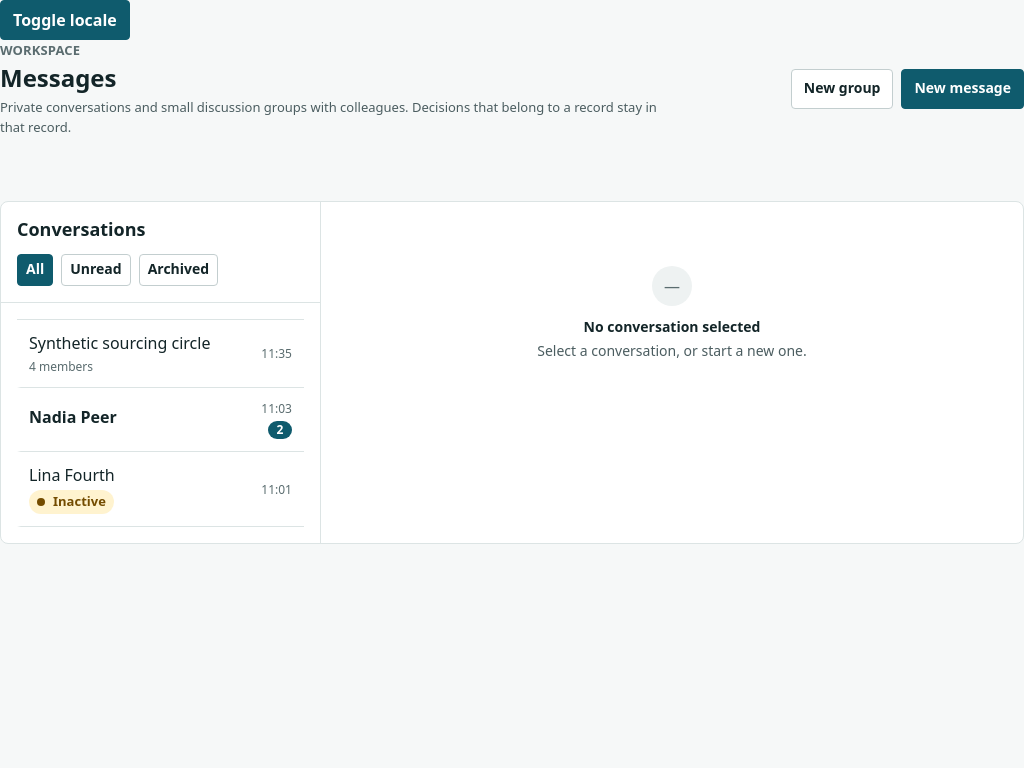
Test: Messages workspace › loads earlier messages with a before cursor and keeps the newest page
Click the button "Synthetic sourcing circle 4 members 11:35" at [160, 354], box x1=17 y1=320 x2=304 y2=388
(page scrolled)
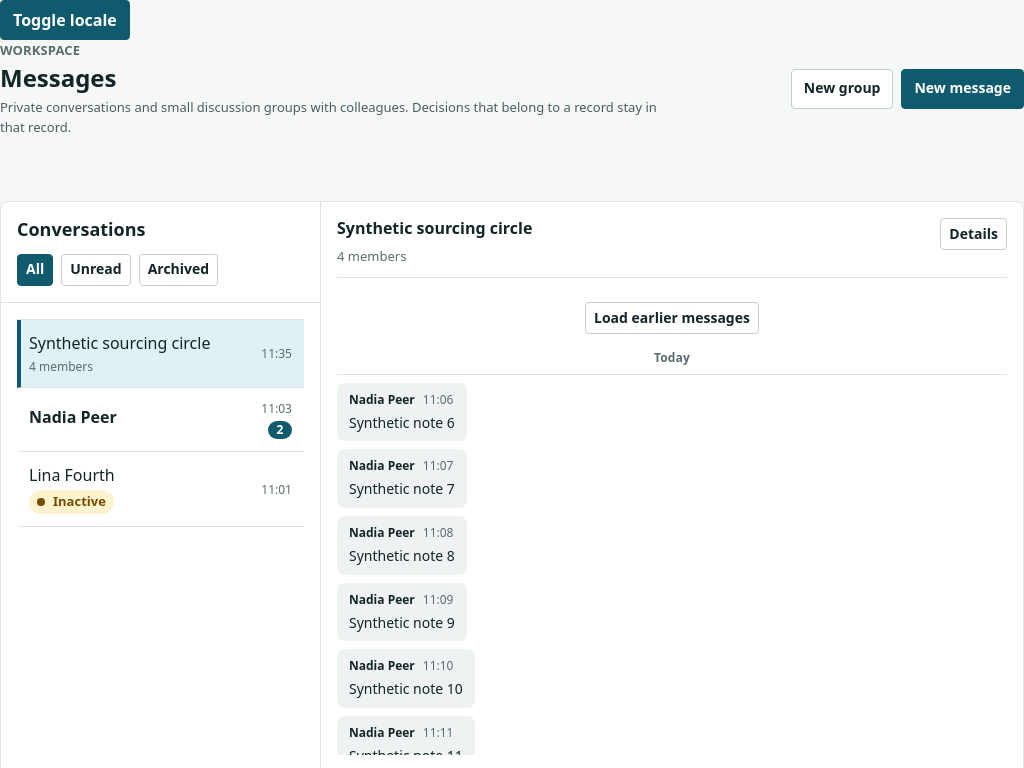
Expected: the text "Synthetic note 5" is not shown
Click the button "Load earlier messages" at [672, 318], box x1=585 y1=302 x2=759 y2=334
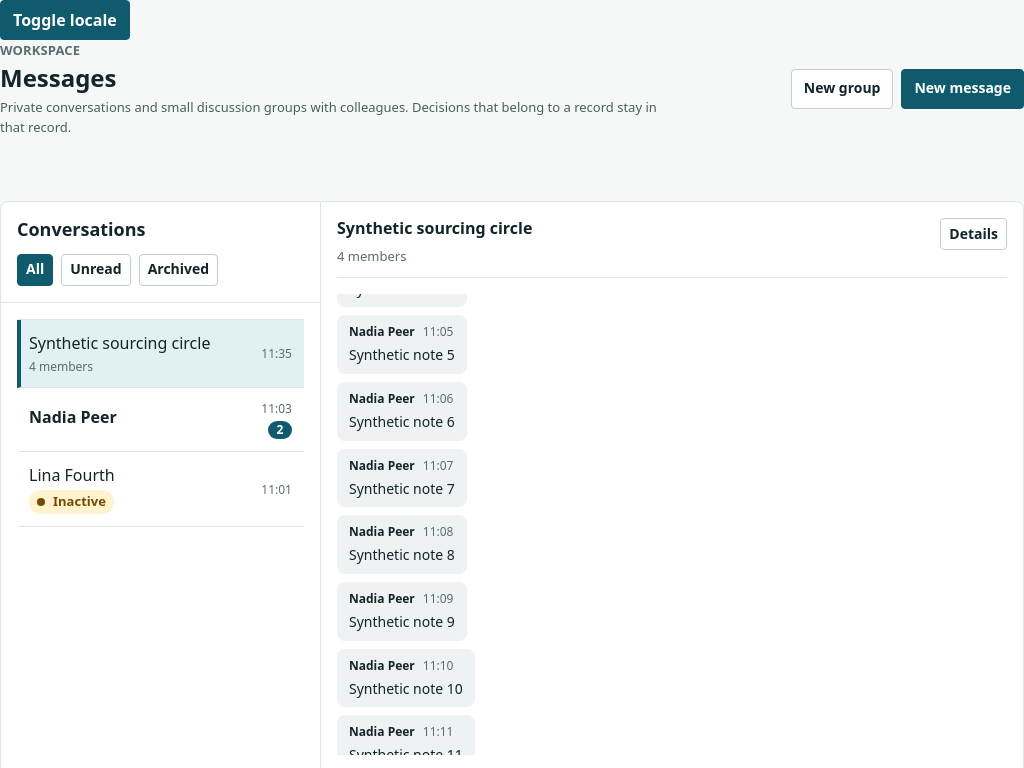
Expected: the button "Load earlier messages" is gone
